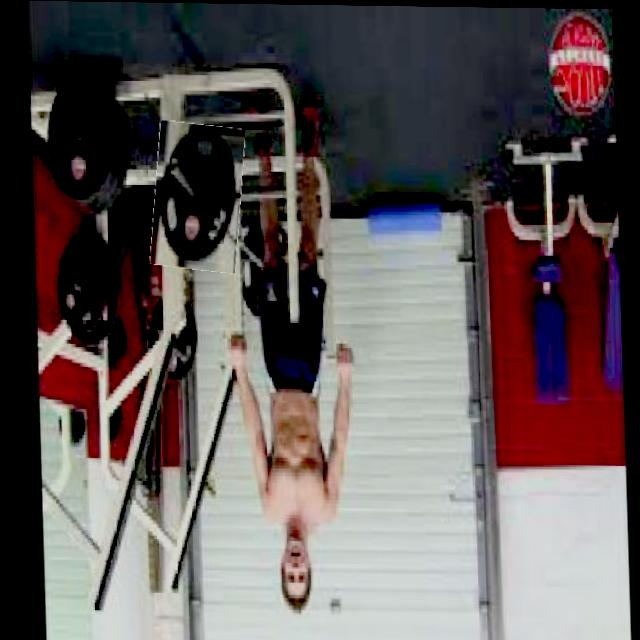barbell: (149, 123, 245, 273)
